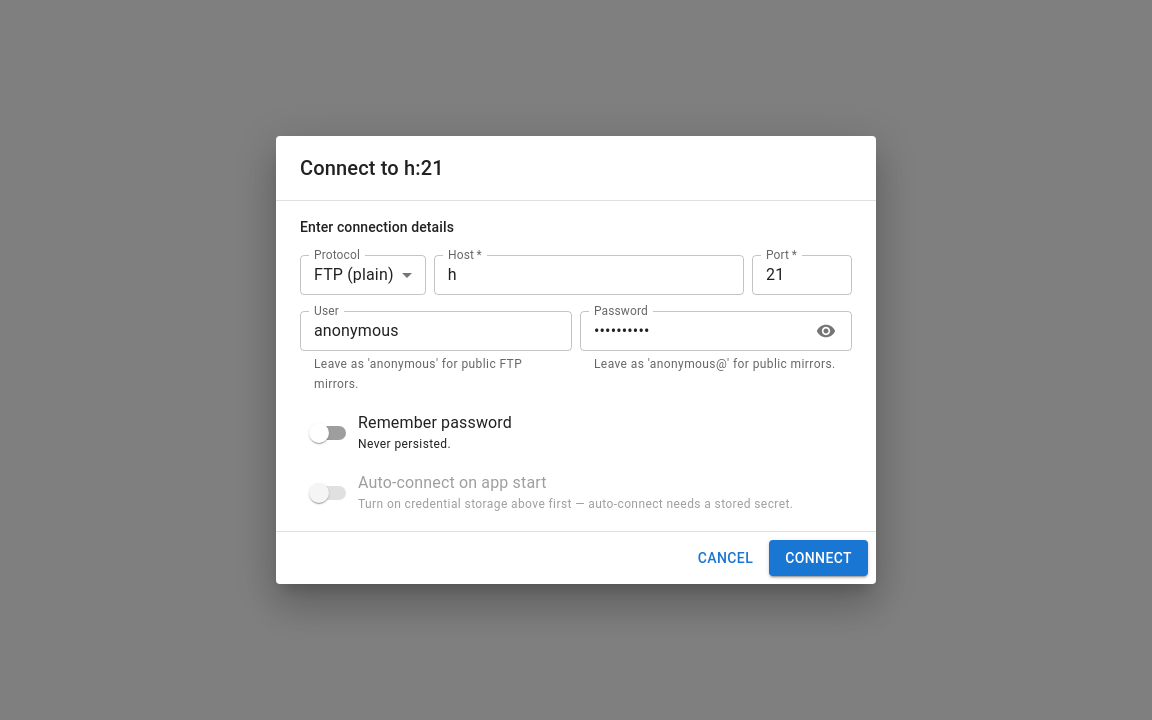
RemoteConnectDialog › switching protocol to SMB updates the port default
Press the mouse on the dropdown named "Protocol" at (354, 275), box [314,265,394,284]
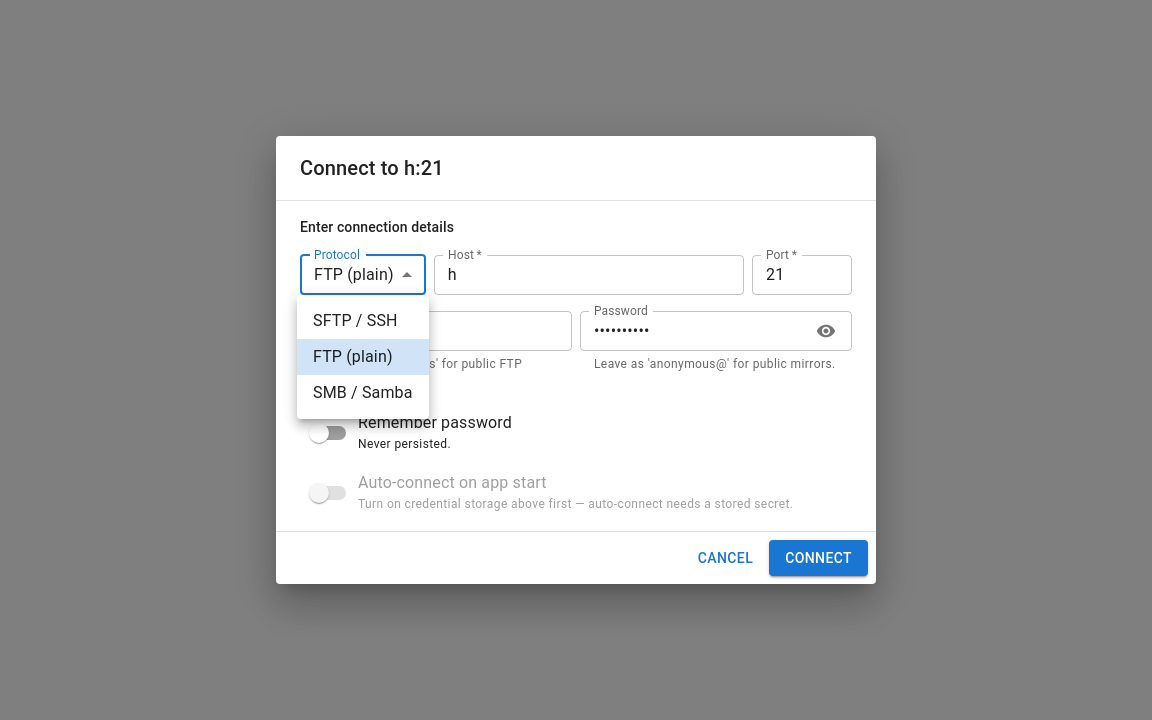
Click the option "SMB / Samba". click: (363, 392)
box: [313,383,413,402]
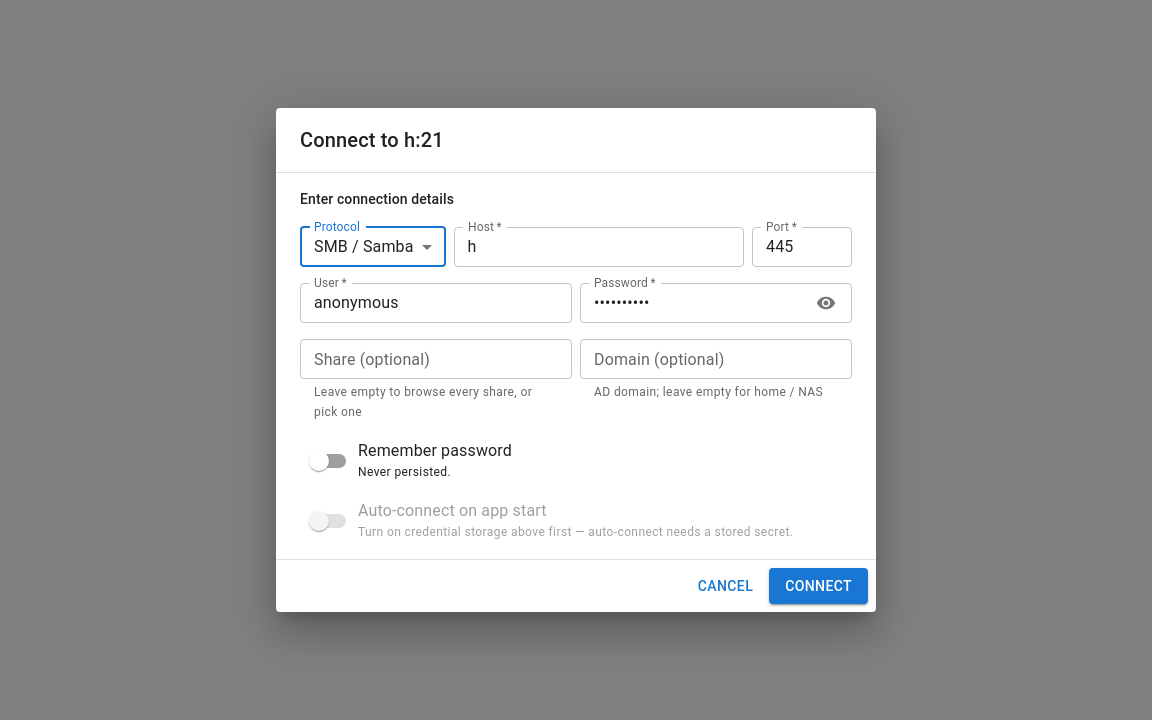
Check: the number field labelled "Port *" holds "445", box [752,227,852,267]
